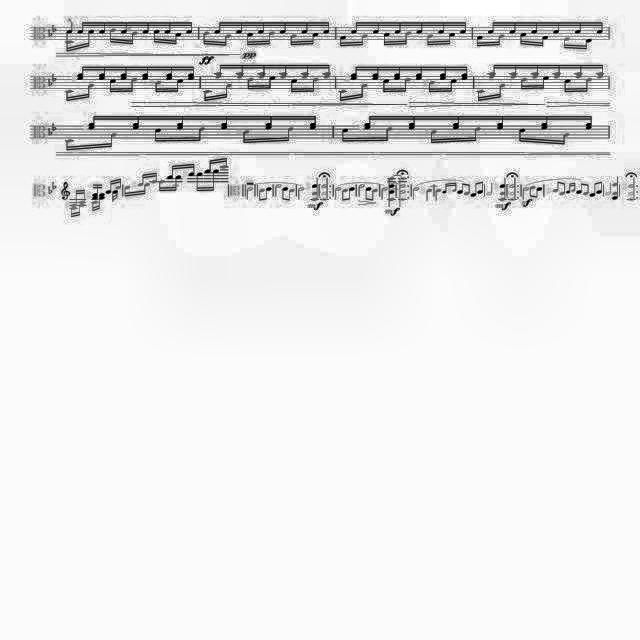Bemol: (43, 29, 57, 39), (48, 69, 58, 83), (44, 74, 52, 90), (46, 126, 56, 138), (50, 123, 58, 133), (51, 23, 57, 31)
Sixteenth-note: (76, 112, 104, 132), (125, 110, 144, 138), (338, 119, 358, 145), (456, 16, 472, 48), (425, 123, 443, 149), (258, 111, 280, 132), (215, 110, 237, 130), (449, 110, 467, 134), (402, 107, 418, 133), (169, 110, 187, 132), (467, 120, 481, 148), (336, 28, 352, 52), (362, 110, 378, 134), (62, 85, 82, 104), (58, 134, 78, 152), (516, 31, 532, 53), (284, 124, 300, 146), (103, 125, 117, 149), (539, 110, 553, 134), (302, 113, 320, 131), (274, 18, 294, 34), (346, 18, 362, 38), (494, 111, 506, 137), (541, 74, 555, 95), (338, 84, 352, 105), (262, 29, 278, 47), (381, 28, 393, 52), (485, 18, 503, 34), (414, 16, 426, 40), (492, 81, 508, 99), (401, 70, 413, 94), (240, 128, 256, 146), (243, 32, 257, 52), (583, 115, 597, 135), (508, 15, 520, 38), (86, 21, 95, 51), (106, 27, 120, 46), (288, 26, 300, 48), (392, 19, 404, 41), (518, 124, 530, 146), (253, 16, 269, 32), (296, 20, 312, 36), (592, 20, 608, 36), (150, 126, 166, 142), (219, 29, 233, 47), (358, 29, 372, 47), (401, 31, 415, 49), (382, 125, 394, 146), (120, 16, 132, 36), (140, 18, 152, 38), (309, 26, 319, 50), (320, 18, 332, 38), (538, 32, 550, 52), (582, 76, 594, 96), (428, 74, 440, 94), (244, 74, 256, 94), (149, 70, 159, 94), (128, 27, 140, 45), (570, 19, 582, 37), (129, 72, 137, 98), (86, 75, 94, 101), (560, 34, 572, 51), (98, 18, 108, 38), (75, 18, 85, 38), (477, 28, 487, 48), (583, 30, 593, 50), (311, 74, 321, 94), (152, 24, 160, 48), (172, 28, 184, 44), (266, 72, 278, 88), (560, 132, 572, 148), (109, 75, 117, 97), (211, 22, 225, 34), (358, 83, 370, 97), (196, 125, 208, 139), (423, 34, 433, 50), (447, 28, 455, 48), (372, 20, 380, 40), (532, 16, 540, 36), (563, 78, 573, 94), (203, 88, 213, 104), (202, 27, 210, 45), (185, 20, 195, 34), (237, 19, 247, 33), (447, 77, 457, 91), (290, 74, 296, 96), (164, 18, 172, 34), (522, 74, 530, 90), (379, 78, 389, 90), (175, 80, 185, 92), (553, 20, 559, 36), (226, 86, 234, 98), (498, 35, 506, 45), (478, 95, 486, 99)
